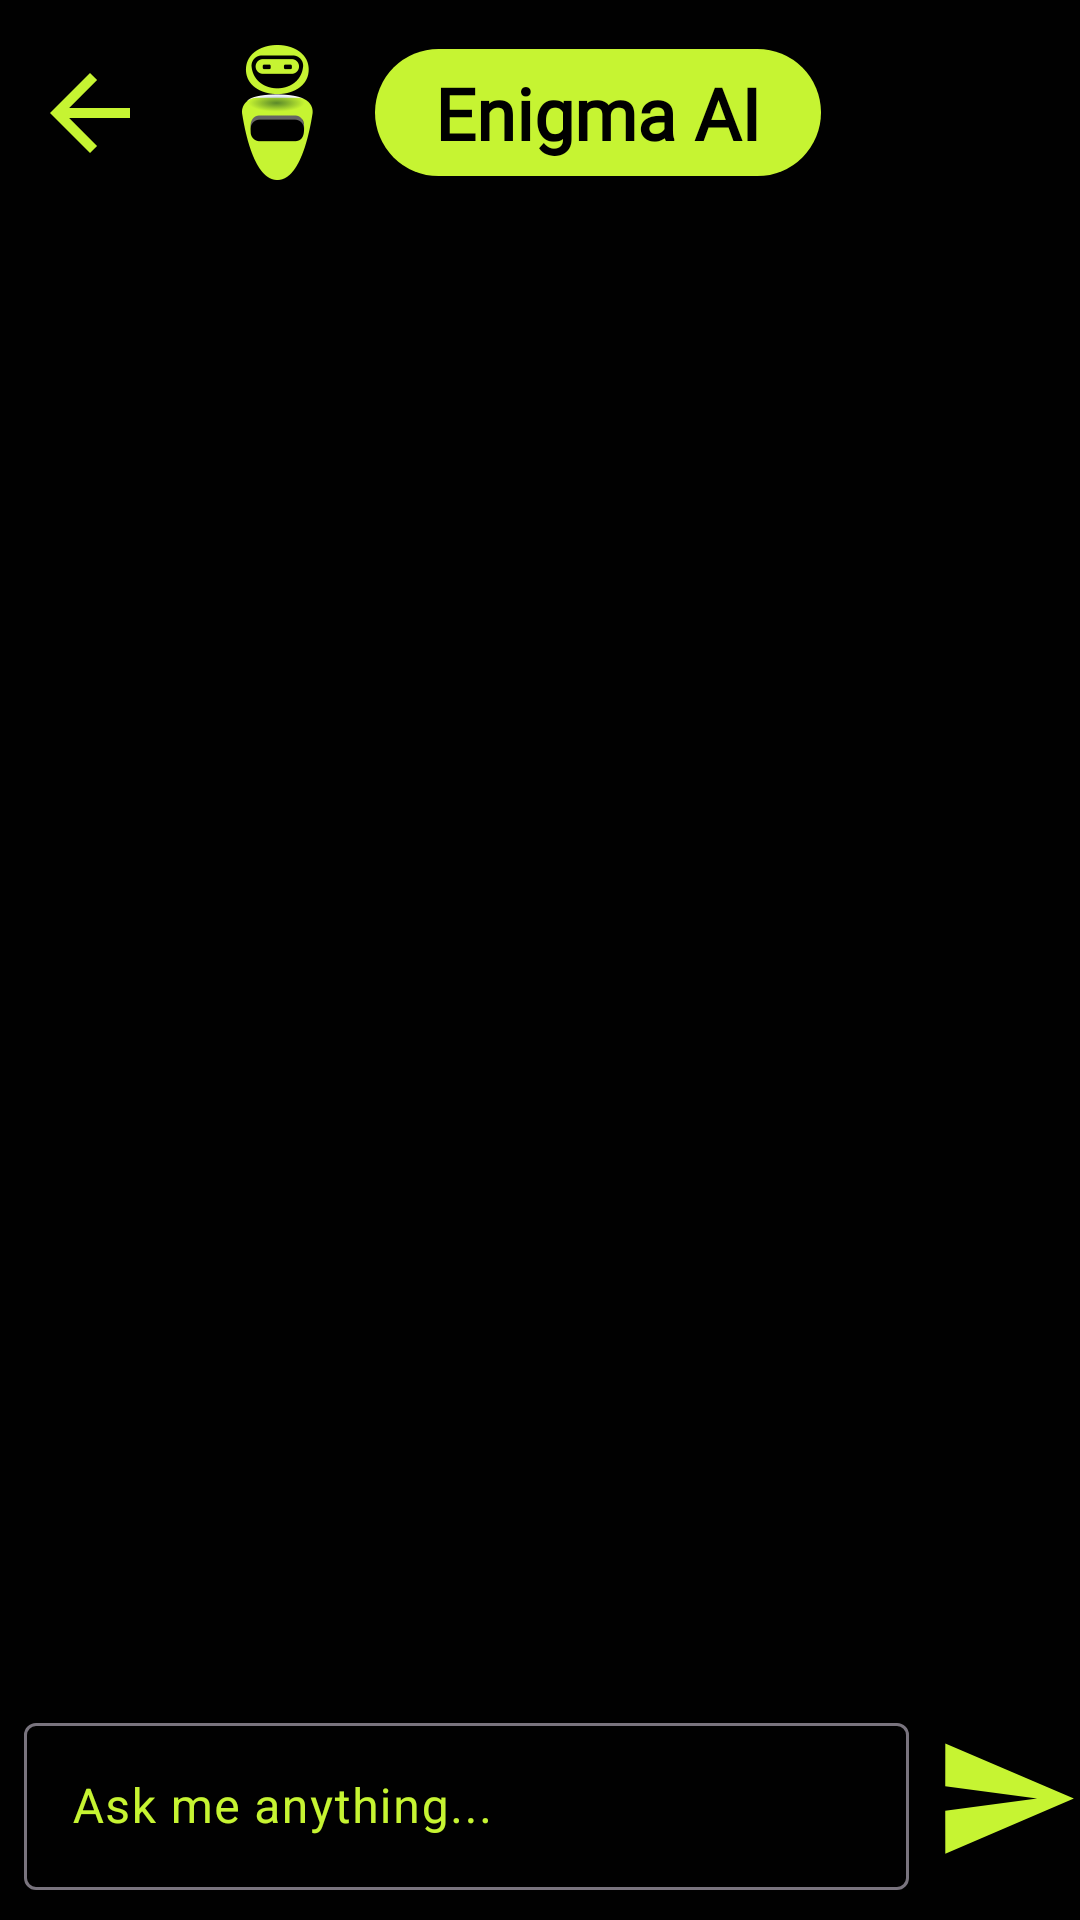

Icon click points for this 1080 x 1920 phone screenshot, format [x,y]:
arrow back: [90,113]
bot: [277,112]
send: [1009,1798]
